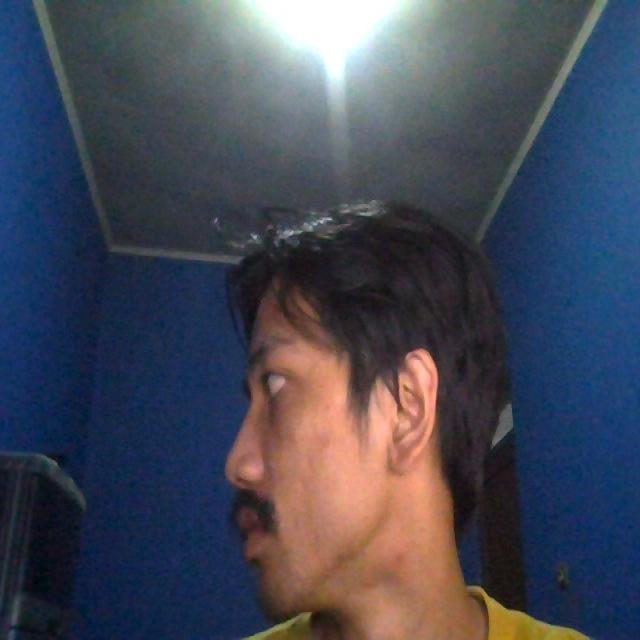Melihat kekanan: (206, 202, 499, 605)
